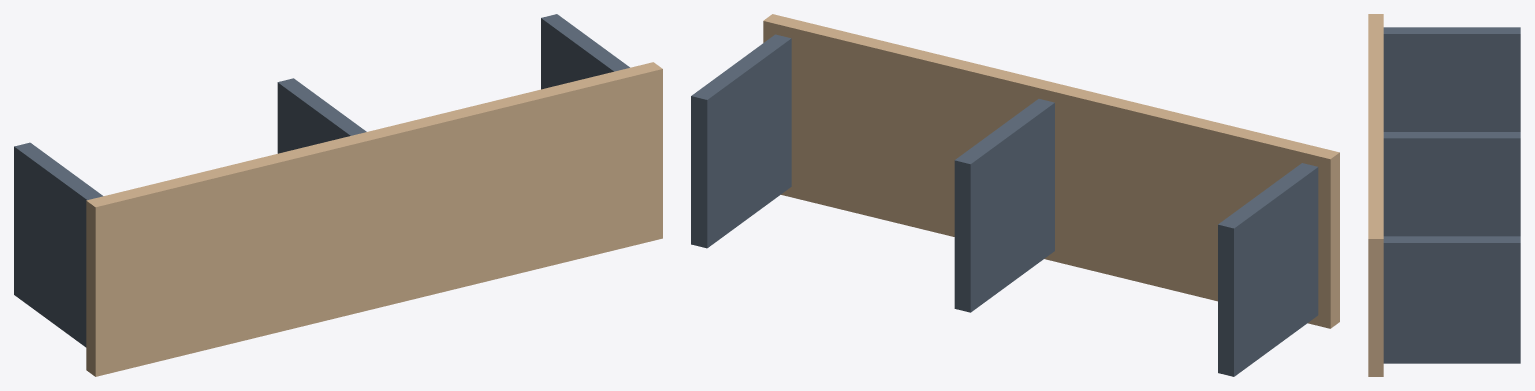
File: desk_double.glb
The picture shows the model from 3 angles, left to right: view 1: azimuth 30°, elevation 25°; view 2: azimuth 150°, elevation 25°; view 3: azimuth 270°, elevation 25°; orthographic projection. The views are drawn at different scales.
Visible parts, largest first — view 1: desktop_0, leg_1, leg_2, leg_3; view 2: desktop_0, leg_2, leg_1, leg_3; view 3: leg_3, leg_1, leg_2, desktop_0.
Part boxes in pixels (box(x1,y1,x2,y2)): desktop_0: box(86, 62, 662, 376); leg_1: box(14, 142, 103, 347); leg_2: box(277, 78, 366, 153); leg_3: box(541, 14, 629, 89); desktop_0: box(763, 14, 1339, 328); leg_2: box(954, 99, 1054, 312); leg_1: box(1218, 163, 1318, 376); leg_3: box(691, 34, 791, 248); leg_3: box(1383, 236, 1520, 363); leg_1: box(1383, 27, 1520, 131); leg_2: box(1383, 132, 1520, 236); desktop_0: box(1368, 14, 1383, 376).
Size of the model in its own units: 2.8 by 0.8 by 0.8.
